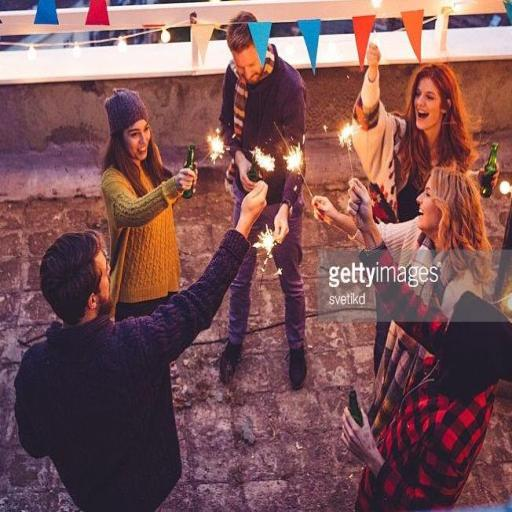person: (15, 182, 267, 511), (342, 281, 511, 511), (220, 12, 307, 389), (352, 43, 476, 222), (102, 89, 196, 319), (376, 168, 490, 317)
